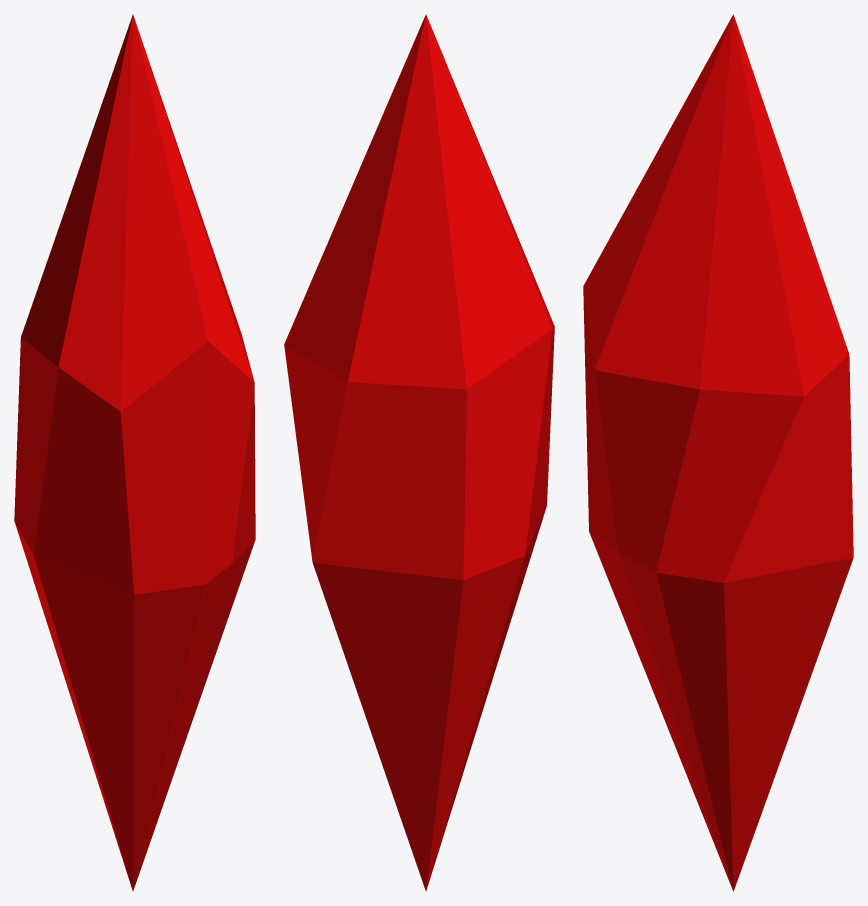
The model's file is explosive_crystal.obj.
The picture shows the model from 3 angles, left to right: view 1: azimuth 30°, elevation 25°; view 2: azimuth 150°, elevation 25°; view 3: azimuth 270°, elevation 25°; orthographic projection.
Visible parts, largest first — view 1: Cylinder; view 2: Cylinder; view 3: Cylinder.
Boxes of the visible parts, box(x1,y1,x2,y2) form: Cylinder: box(14, 14, 255, 891); Cylinder: box(284, 14, 554, 891); Cylinder: box(583, 14, 853, 891).
Size of the model in its own units: 1.03 by 4.16 by 1.16.
